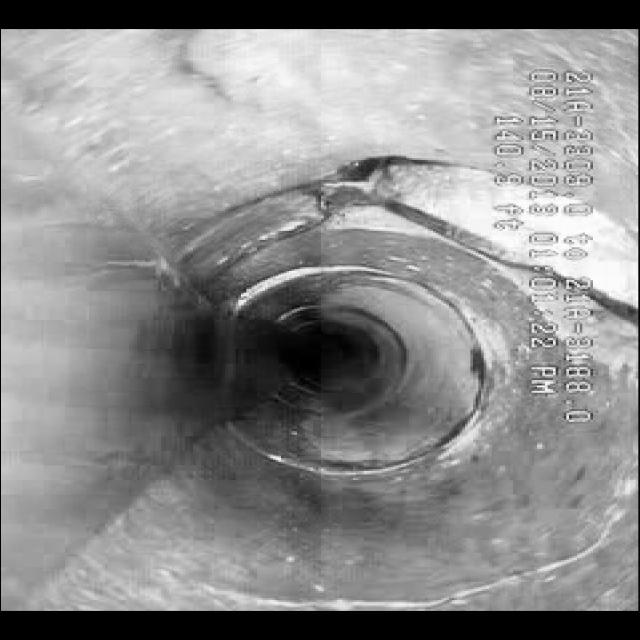Fracture: (224, 148, 422, 268)
